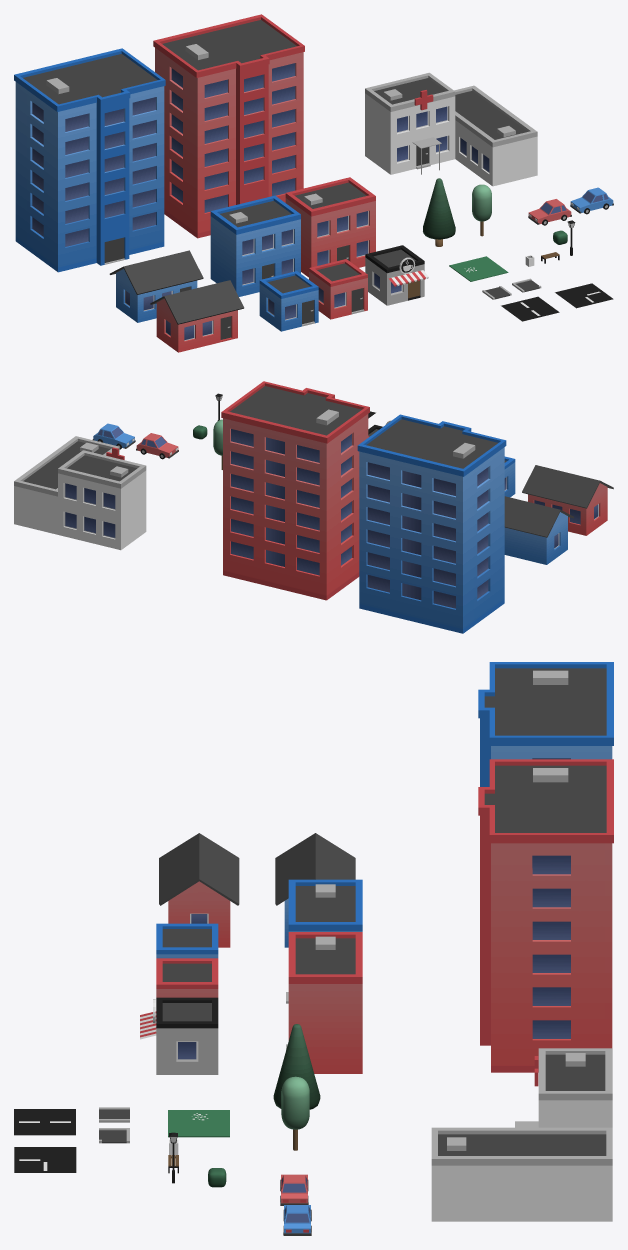
Rendered from asset pack.fbx.
3 views of the same model, one above another, from view 1: azimuth 30°, elevation 25°; view 2: azimuth 150°, elevation 25°; view 3: azimuth 270°, elevation 25° (orthographic). The views are drawn at different scales.
Parts seen in each view (by area): view 1: panelak B, panelak A, nemocnice, domek3. A, domek3 B, domek2 B, domek2 A, domek B, kavarna, domek A, smrk, trava (+5 smaller); view 2: panelak B, panelak A, nemocnice, domek2 B, domek2 A, auto A, auto B, domek B; view 3: panelak A, nemocnice, panelak B, domek3 B, domek2 B, kavarna, domek3. A, domek2 A, domek A, domek B, smrk, trava (+5 smaller).
Part boxes in pixels (x1=…): panelak B: x1=14, y1=48, x2=165, y2=272; panelak A: x1=153, y1=14, x2=304, y2=238; nemocnice: x1=365, y1=72, x2=537, y2=186; domek3. A: x1=210, y1=195, x2=300, y2=296; domek3 B: x1=285, y1=177, x2=375, y2=277; domek2 B: x1=150, y1=280, x2=244, y2=352; domek2 A: x1=109, y1=250, x2=203, y2=322; domek B: x1=259, y1=271, x2=318, y2=331; kavarna: x1=365, y1=245, x2=428, y2=305; domek A: x1=309, y1=259, x2=367, y2=319; smrk: x1=423, y1=178, x2=455, y2=246; trava: x1=449, y1=256, x2=508, y2=281; panelak B: x1=357, y1=414, x2=506, y2=633; panelak A: x1=221, y1=381, x2=369, y2=600; nemocnice: x1=14, y1=436, x2=146, y2=550; domek2 B: x1=522, y1=465, x2=613, y2=535; domek2 A: x1=504, y1=496, x2=573, y2=564; auto A: x1=136, y1=433, x2=178, y2=459; auto B: x1=92, y1=423, x2=135, y2=449; domek B: x1=504, y1=456, x2=515, y2=497; panelak A: x1=478, y1=759, x2=613, y2=1072; nemocnice: x1=431, y1=1048, x2=612, y2=1221; panelak B: x1=478, y1=662, x2=613, y2=786; domek3 B: x1=286, y1=932, x2=362, y2=1073; domek2 B: x1=159, y1=833, x2=239, y2=947; kavarna: x1=140, y1=997, x2=218, y2=1074; domek3. A: x1=286, y1=879, x2=362, y2=1003; domek2 A: x1=275, y1=833, x2=355, y2=947; domek A: x1=156, y1=958, x2=218, y2=997; domek B: x1=156, y1=923, x2=218, y2=958; smrk: x1=273, y1=1024, x2=320, y2=1109; trava: x1=168, y1=1110, x2=229, y2=1137.
Bounding box in the file's own units: 6464 × 2152 × 4840.
Materials: 1 (1 with a texture image).
